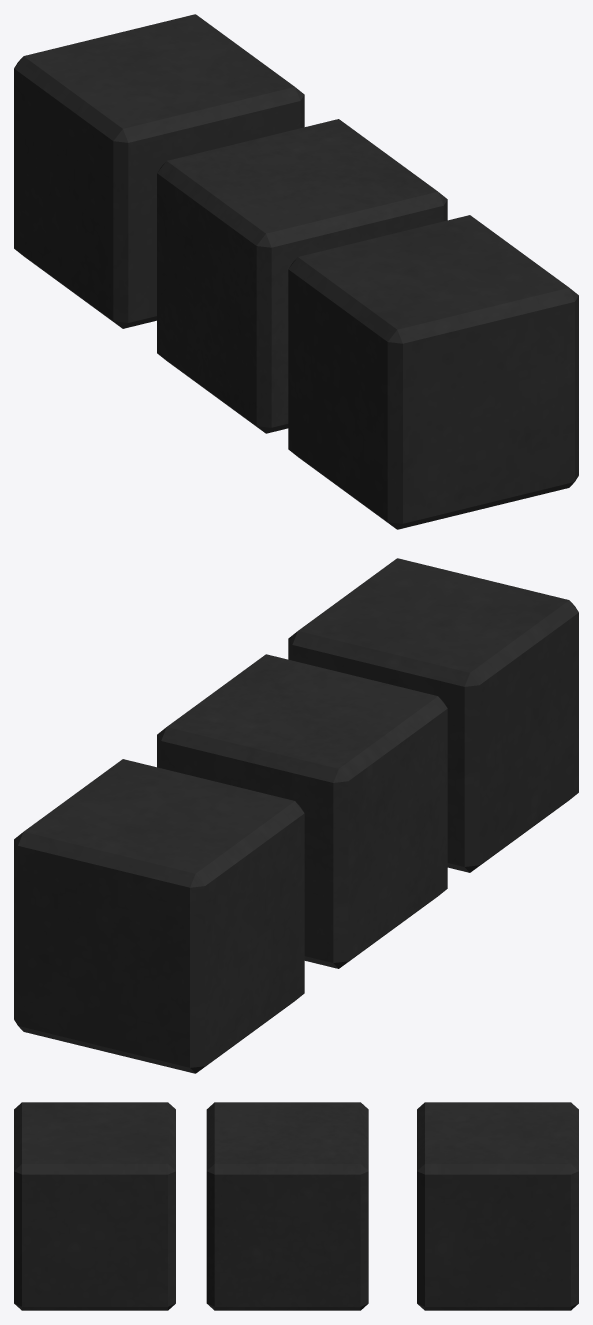
The picture shows the model from 3 angles, top to bottom: view 1: azimuth 30°, elevation 25°; view 2: azimuth 150°, elevation 25°; view 3: azimuth 270°, elevation 25°; orthographic projection. The views are drawn at different scales.
Visible parts, largest first — view 1: pCube26, pCube27, pCube25; view 2: pCube27, pCube25, pCube26; view 3: pCube25, pCube26, pCube27.
Boxes of the visible parts, x1,y1,x2,y2 form: pCube26: (288, 215, 578, 529); pCube27: (14, 14, 304, 328); pCube25: (157, 119, 447, 433); pCube27: (14, 759, 304, 1073); pCube25: (157, 654, 447, 968); pCube26: (288, 558, 578, 872); pCube25: (206, 1102, 368, 1310); pCube26: (14, 1102, 175, 1310); pCube27: (417, 1102, 578, 1310).
Size of the model in its own units: 852 by 852 by 2970.
